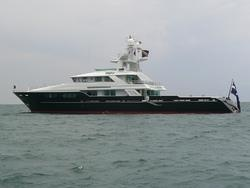yacht: (11, 35, 241, 114)
